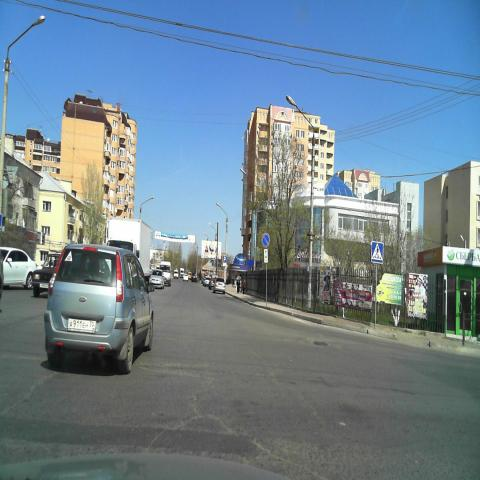3_28: (262, 233, 270, 249)
